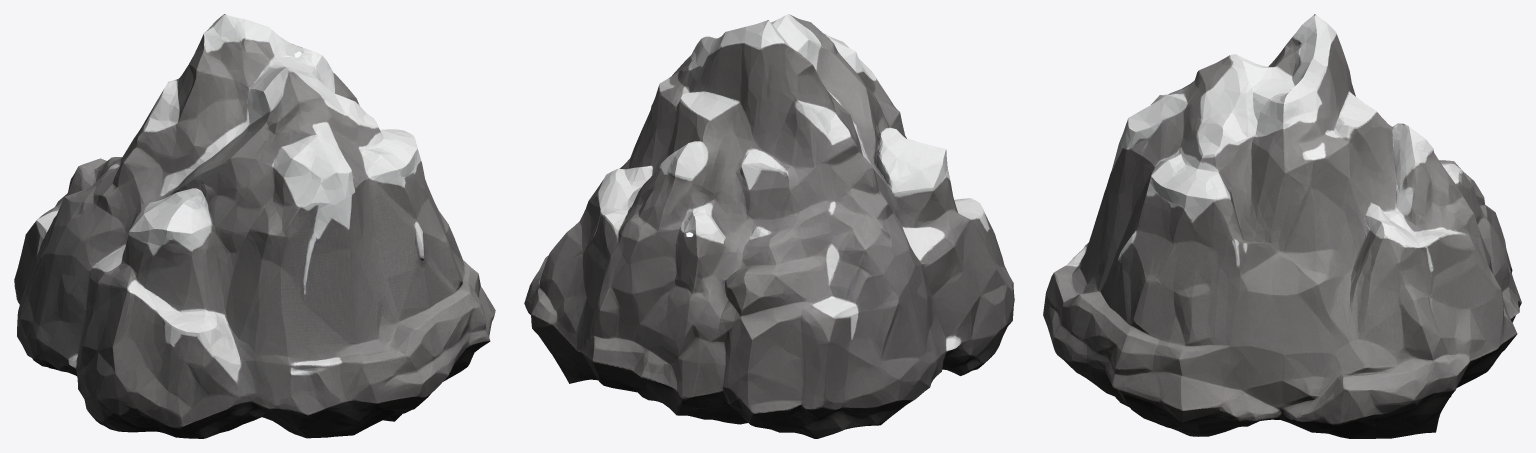
Rendered from mountain_medium.glb.
3 renders of one model, left to right at view 1: azimuth 30°, elevation 25°; view 2: azimuth 150°, elevation 25°; view 3: azimuth 270°, elevation 25°, orthographic.
Parts seen in each view (by area): view 1: world; view 2: world; view 3: world.
Boxes of the visible parts, bbox=[...] form: world: bbox=[14, 14, 495, 438]; world: bbox=[524, 14, 1014, 438]; world: bbox=[1043, 14, 1521, 438].
Bounding box in the file's own units: 0.9437 × 0.9139 × 1.
Materials: 1 (1 with a texture image).
